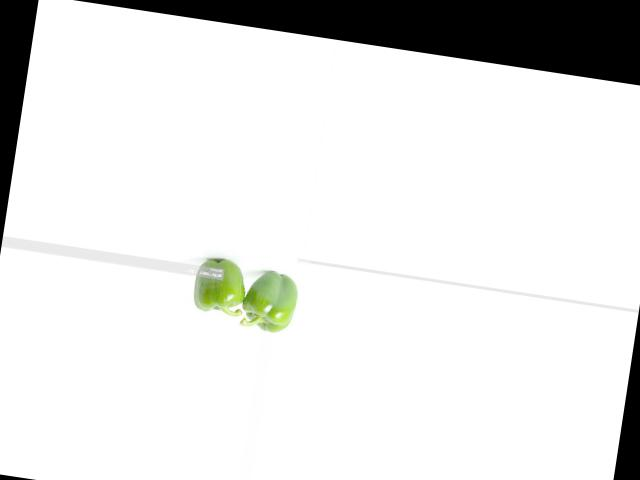bell_pepper: (239, 259, 301, 339)
